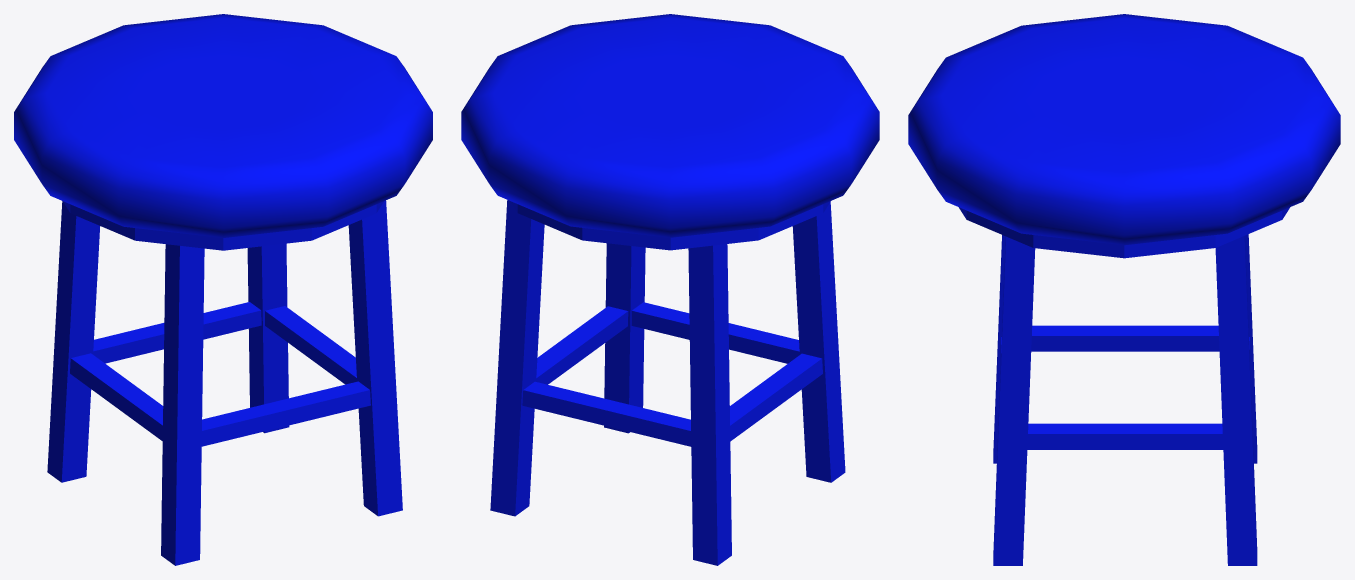
The model's file is Tutorial_Model_Environment_BarStool.fbx.
3 renders of one model, left to right at view 1: azimuth 30°, elevation 25°; view 2: azimuth 150°, elevation 25°; view 3: azimuth 270°, elevation 25°, orthographic. The views are drawn at different scales.
Parts seen in each view (by area): view 1: Bar Stool; view 2: Bar Stool; view 3: Bar Stool.
Boxes of the visible parts, x1=… form: Bar Stool: x1=14, y1=14, x2=432, y2=565; Bar Stool: x1=461, y1=14, x2=879, y2=565; Bar Stool: x1=908, y1=14, x2=1340, y2=565.
Bounding box in the file's own units: 24.23 × 25.49 × 24.23.
